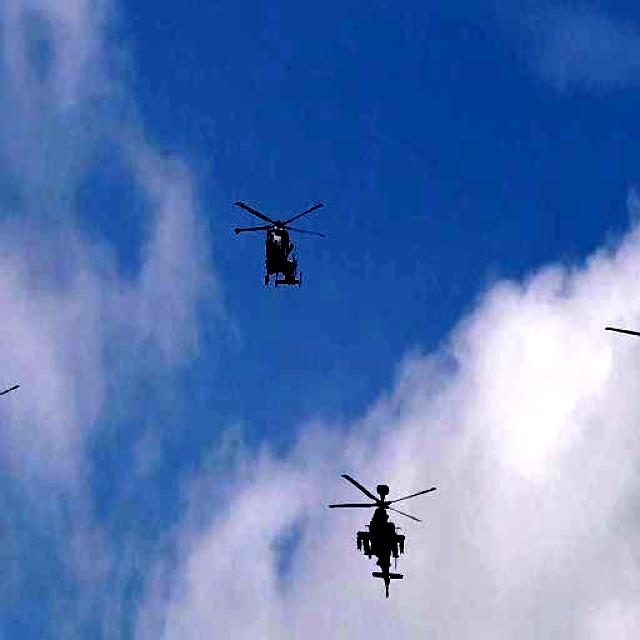drone: (328, 471, 436, 601), (235, 196, 326, 290), (602, 300, 640, 439)
